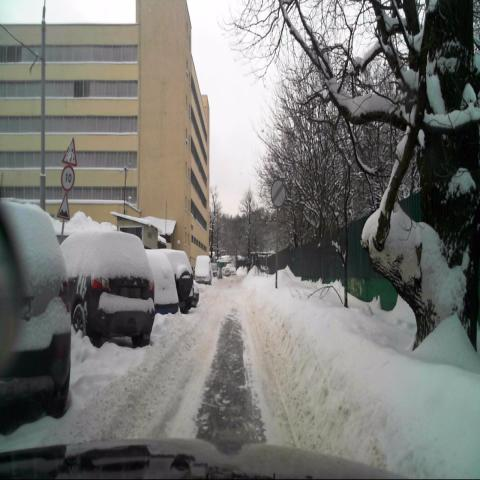1_16: (57, 194, 70, 221)
3_31: (271, 177, 286, 208)
